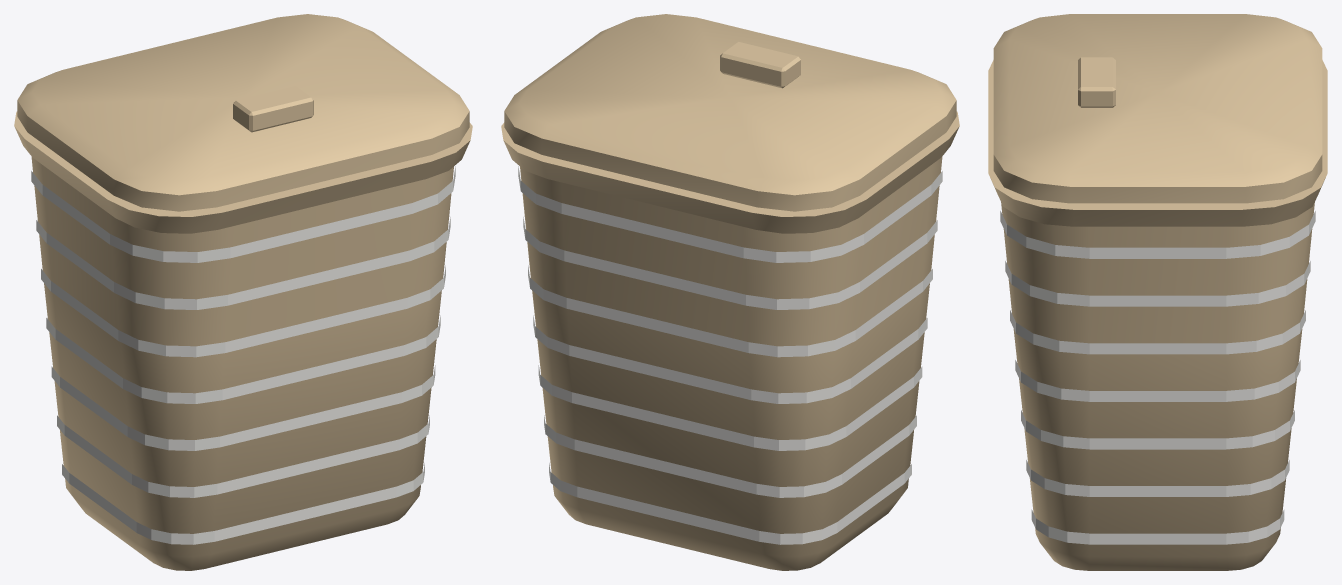
The model's file is clothing-rail-and-wardrobe-laundry-basket-ee3faaa1__35474.glb.
The picture shows the model from 3 angles, left to right: view 1: azimuth 30°, elevation 25°; view 2: azimuth 150°, elevation 25°; view 3: azimuth 270°, elevation 25°; orthographic projection.
Visible parts, largest first — view 1: laundry-basket, basket-lid; view 2: laundry-basket, basket-lid; view 3: laundry-basket, basket-lid.
Part boxes in pixels (left/top/right/bottom): laundry-basket: left=14, top=111, right=472, bottom=570; basket-lid: left=17, top=14, right=469, bottom=211; laundry-basket: left=501, top=111, right=959, bottom=570; basket-lid: left=504, top=14, right=956, bottom=211; laundry-basket: left=988, top=60, right=1327, bottom=570; basket-lid: left=993, top=14, right=1322, bottom=203.
Size of the model in its own units: 0.544 by 0.632 by 0.444.
